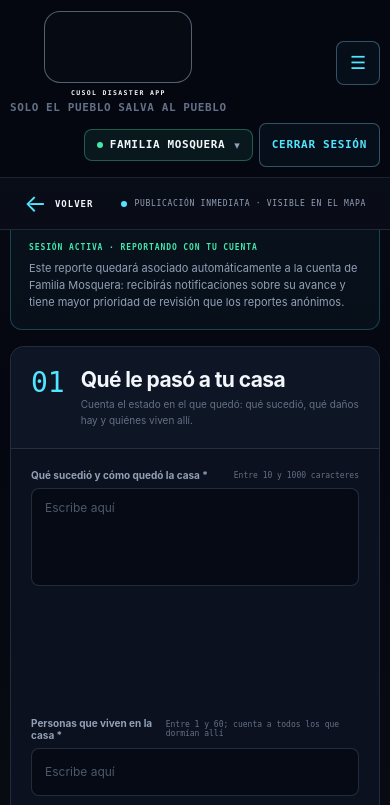
Test: DamagedHomeForm (CHG-182) › publica la casita con cuenta y muestra la constancia
(page scrolled)
Type "El techo se vino abajo y la pared del patio quedó en el suelo." into the text box named "Qué sucedió y cómo quedó la casa *". click: [195, 537]
box: [31, 488, 359, 586]
(page scrolled)
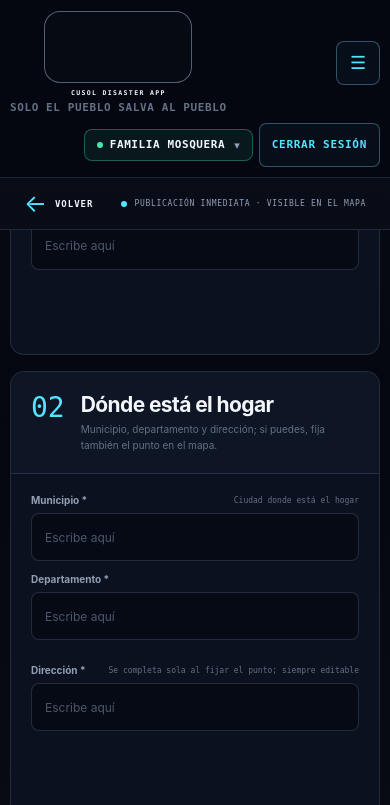
Type "Mompós" into the field named "Municipio *". click: [195, 537]
box: [31, 513, 359, 561]
Type "Bolívar" into the field named "Departamento *". click: [195, 616]
box: [31, 592, 359, 640]
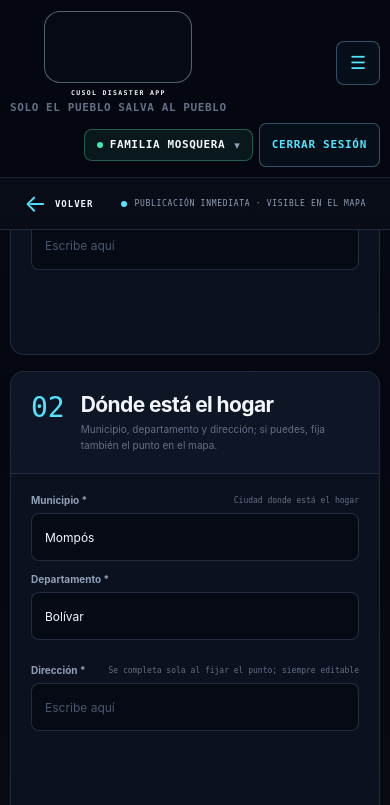
Type "Albarrada del medio #12-40" into the field named "Dirección *". click: [195, 707]
box: [31, 683, 359, 731]
(page scrolled)
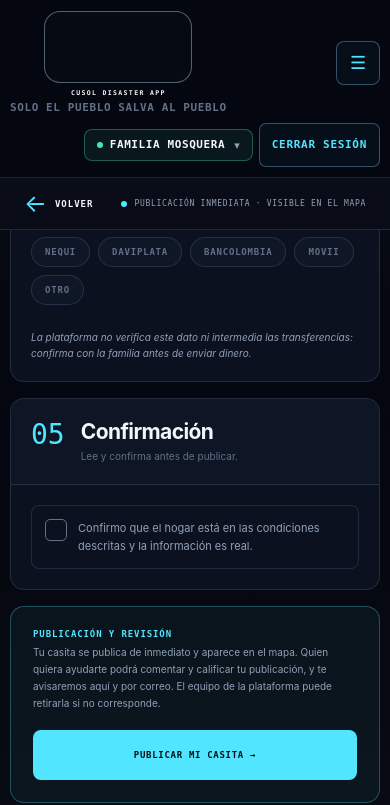
Click the checkbox named "Confirmo que el hogar está en las condiciones descritas y la información es real.". click: [195, 537]
box: [31, 505, 359, 569]
(page scrolled)
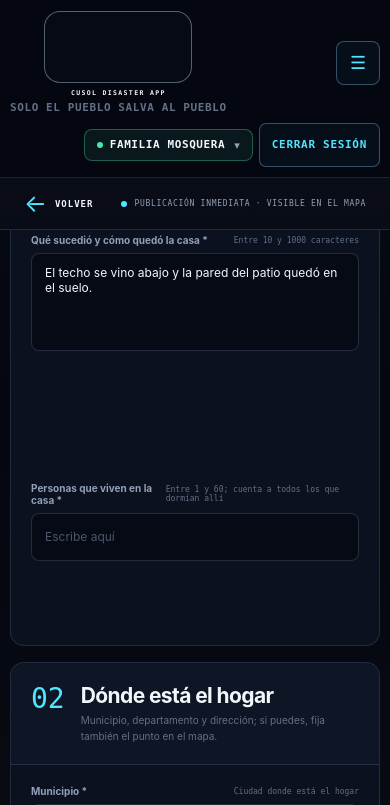
Type "5" into the field named "Personas que viven en la casa *". click: [195, 537]
box: [31, 513, 359, 561]
(page scrolled)
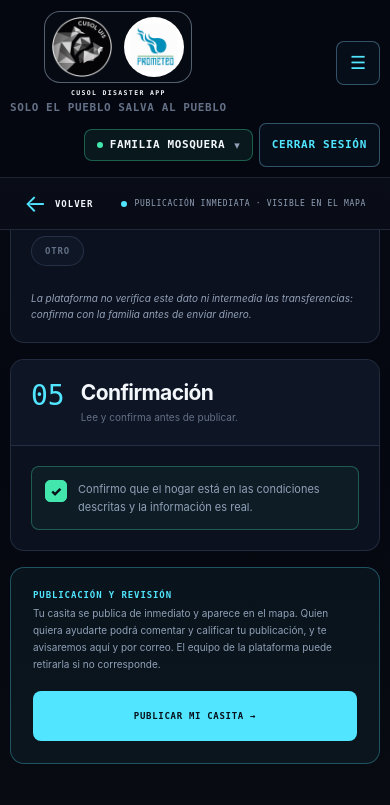
Click the button with aria-label "Publicar mi casita destruida". click: [195, 716]
box: [33, 691, 357, 741]
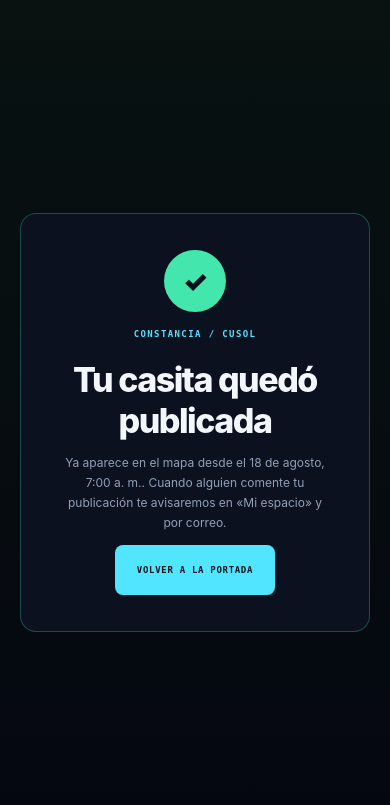
expect the heading "Tu casita quedó publicada" is shown: met, box [57, 358, 333, 440]
